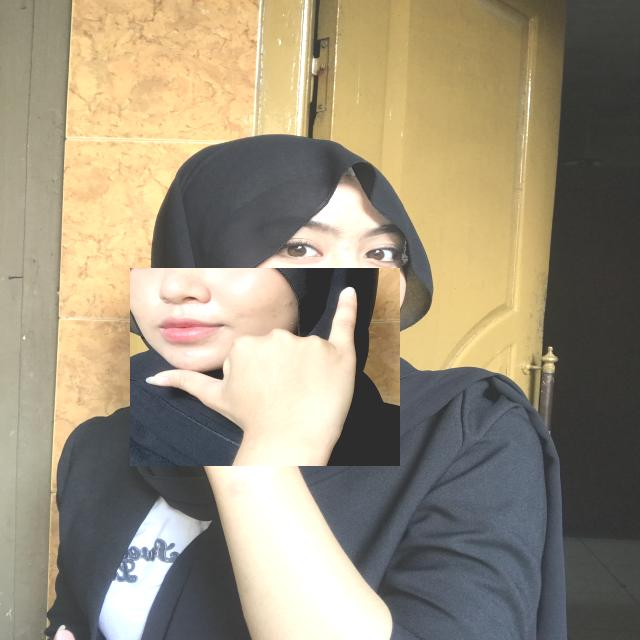telpon: (130, 268, 400, 466)
